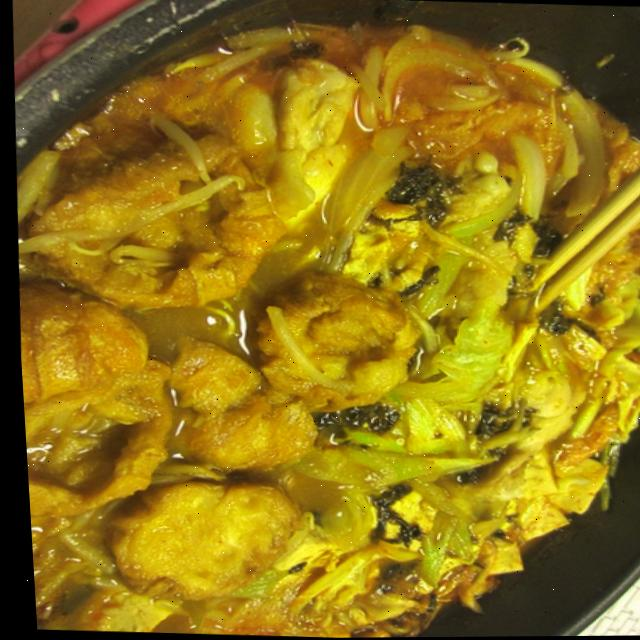汤锅炖物: (0, 5, 640, 640)
